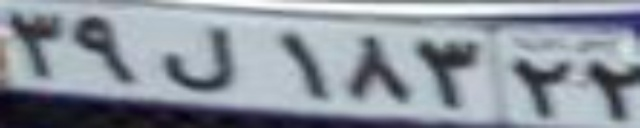1: (273, 30, 331, 100)
2: (508, 56, 567, 119), (584, 60, 637, 120)
3: (416, 39, 477, 108), (10, 8, 67, 79)
8: (340, 36, 410, 105)
9: (71, 13, 137, 84)
lam: (159, 24, 232, 91)
